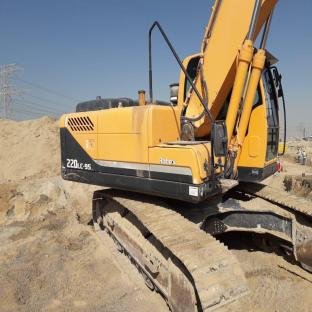ExcavationMachinery: (52, 2, 312, 307)
